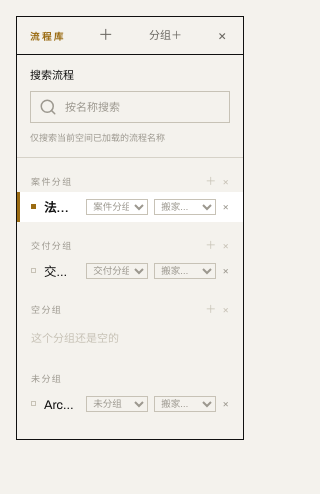
Test case: 流程库的 Arc 名称搜索 › keeps selection, moving and rename callbacks working while filtered, without hiding an ongoing rename
The width and height of the screenshot is (320, 494).
Step 1. Type "交付" into the search field labelled "搜索流程" → coordinates (127, 107), box top-left (63, 100), bottom-right (191, 114)
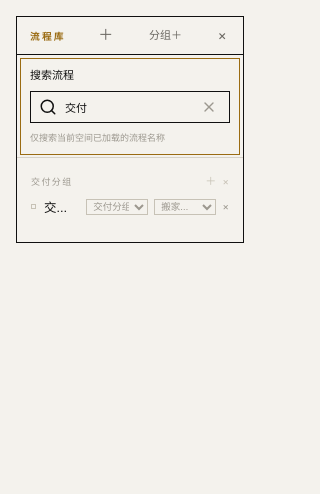
Step 2. Click the 2nd field showing "交付域名" → coordinates (61, 207), box top-left (44, 200), bottom-right (78, 214)
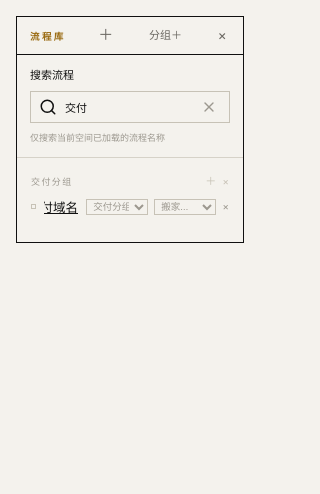
Step 3. Select "案件分组" in the dropdown titled "移到分组" → coordinates (117, 207), box top-left (86, 199), bottom-right (148, 215)
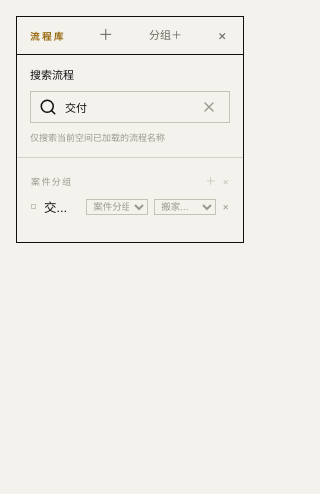
Step 4. Double-click the 2nd field showing "交付域名" → coordinates (61, 207), box top-left (44, 200), bottom-right (78, 214)
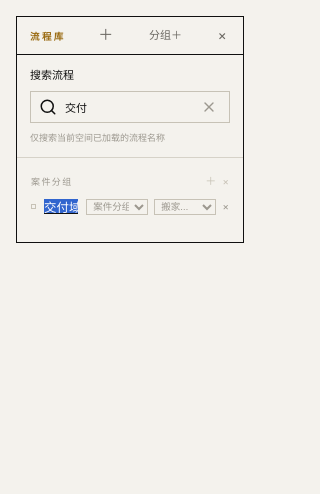
Step 5. Replace the text in the 2nd field showing "交付域名" with "新名称" → coordinates (61, 207), box top-left (44, 200), bottom-right (78, 214)
Step 6. Leave the 2nd field showing "新名称", box top-left (44, 200), bottom-right (78, 214)
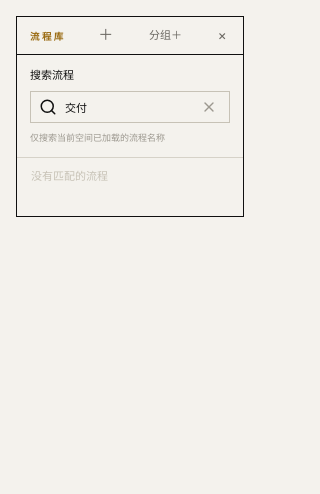
Check: the field showing "新名称" is not shown
Step 7. Click the button named "清空搜索" → coordinates (209, 107), box top-left (197, 95), bottom-right (221, 119)
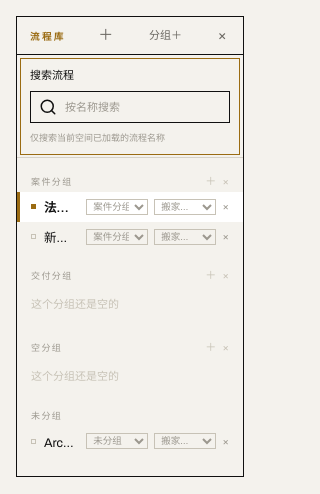
Check: the 3rd field showing "新名称" is shown, box top-left (44, 230), bottom-right (78, 244)
